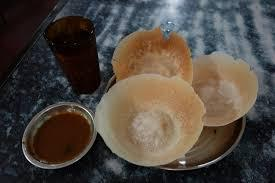Hoppers: (95, 24, 266, 169)
